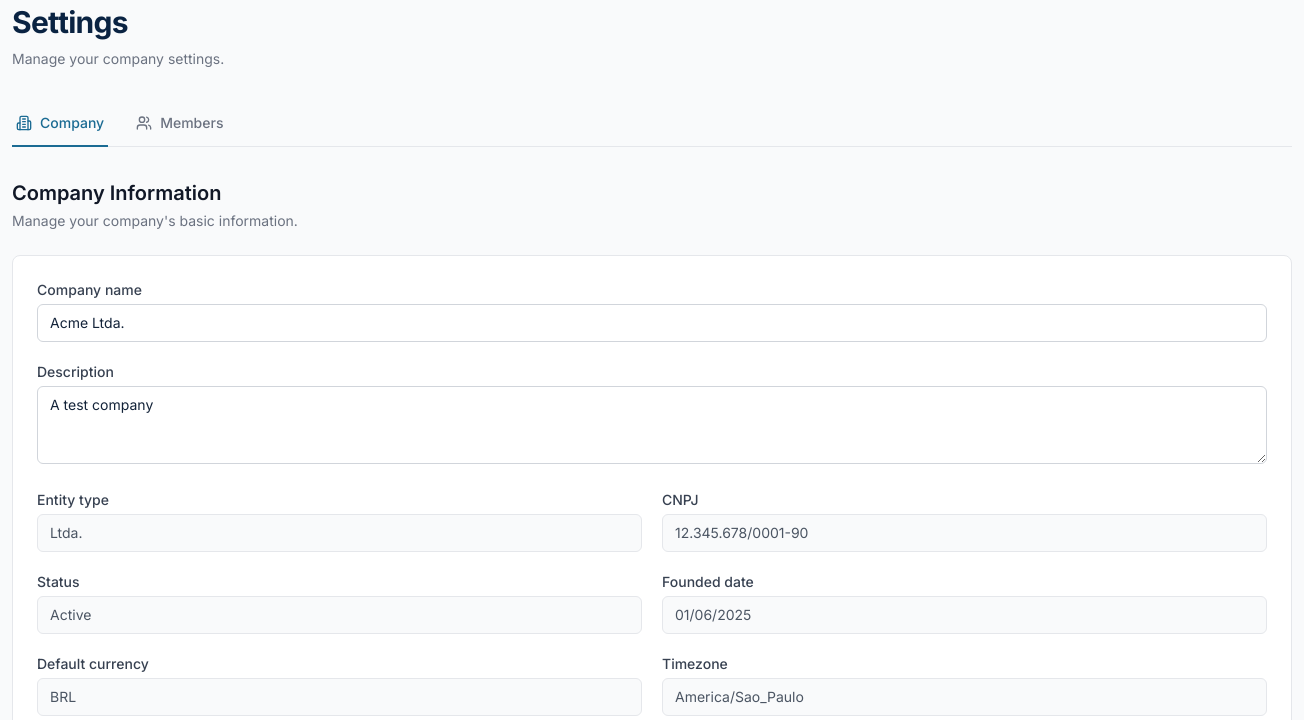
Test: SettingsPage › Members Tab › shows empty state
Click the button "Members". click: (180, 124)
box: top-left (132, 101), bottom-right (228, 147)
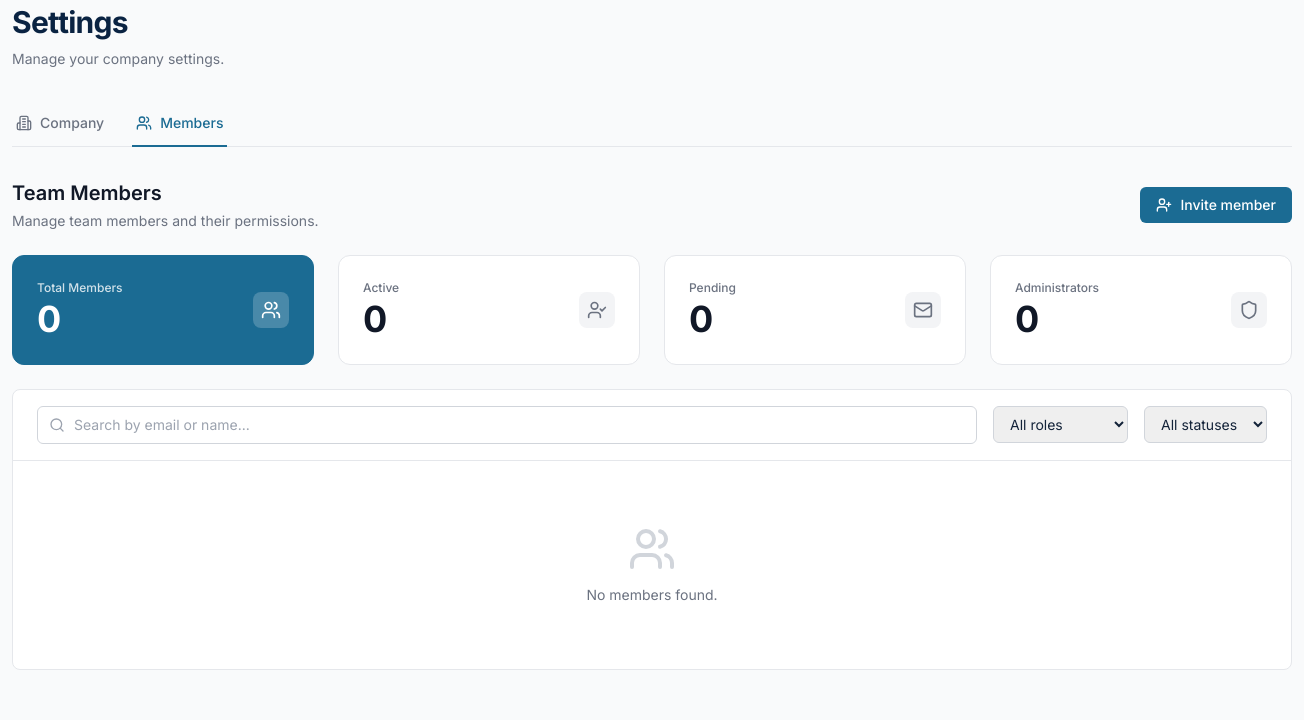
expect the text "No members found." is shown: met, box top-left (586, 585), bottom-right (718, 605)
